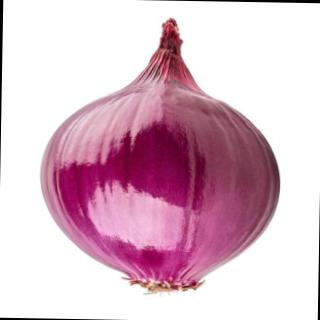Bawang Merah: (34, 12, 288, 299)
